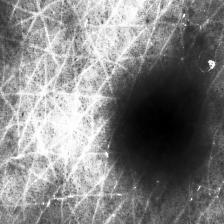Benign Marking or Mole: (118, 78, 203, 168)
